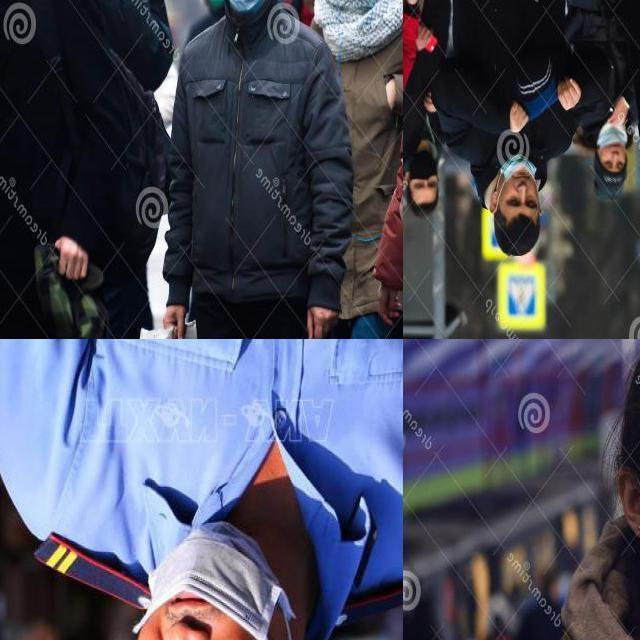hairnet: (141, 516, 293, 639), (499, 155, 539, 199), (589, 118, 630, 159)
